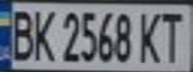2: (57, 7, 81, 63)
5: (78, 7, 100, 62)
6: (97, 8, 118, 63)
8: (112, 8, 136, 63)
B: (6, 6, 36, 62)
K: (136, 8, 166, 64), (30, 6, 57, 63)
T: (154, 8, 190, 64)
